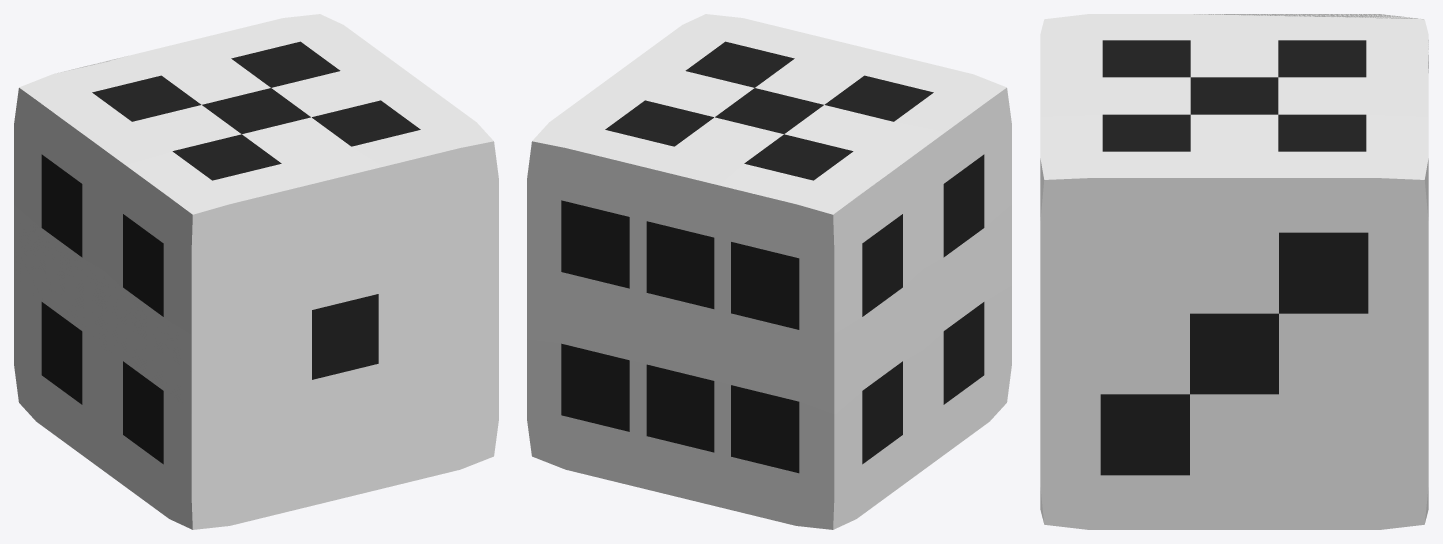
File: dice02.obj
3 renders of one model, left to right at view 1: azimuth 30°, elevation 25°; view 2: azimuth 150°, elevation 25°; view 3: azimuth 270°, elevation 25°, orthographic. The views are drawn at different scales.
Visible parts, largest first — view 1: Cube_Cube.001; view 2: Cube_Cube.001; view 3: Cube_Cube.001.
Part boxes in pixels (<box>): Cube_Cube.001: <box>14,14,498,529</box>; Cube_Cube.001: <box>527,14,1011,529</box>; Cube_Cube.001: <box>1040,14,1428,529</box>.
Bounding box in the file's own units: 0.012 × 0.012 × 0.012.
